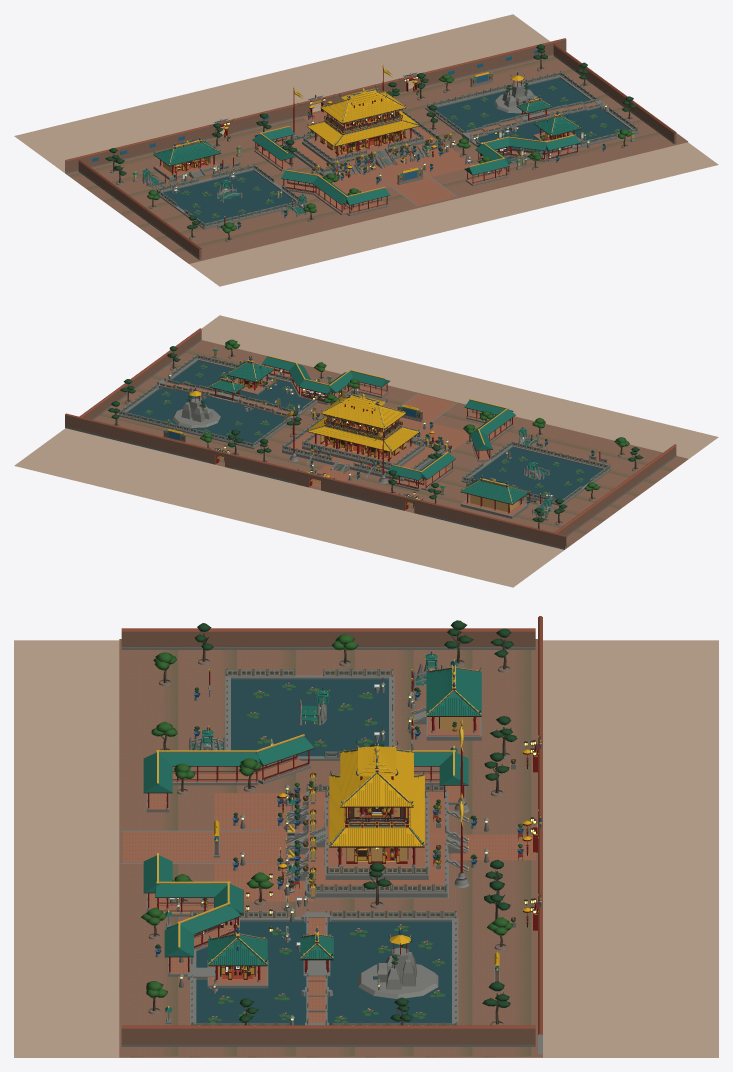
File: T08_lau_kien_trung_vuon_co_ha.glb
The picture shows the model from 3 angles, top to bottom: view 1: azimuth 30°, elevation 25°; view 2: azimuth 150°, elevation 25°; view 3: azimuth 270°, elevation 25°; orthographic projection. The views are drawn at different scales.
Visible parts, largest first — view 1: T08_MainArchitecture_v02, T08_V2_Satellite_Seamless_Base, V07_LauMinhVien_Tang3_CoDien; view 2: T08_MainArchitecture_v02, T08_V2_Satellite_Seamless_Base, V07_LauMinhVien_Tang3_CoDien; view 3: T08_MainArchitecture_v02, T08_V2_Satellite_Seamless_Base, V07_LauMinhVien_Tang3_CoDien, V07_VuonCoHaTay_CauDa_HoSenTay.
Boxes of the visible parts, x1=… form: T08_MainArchitecture_v02: x1=65, y1=38, x2=687, y2=263; T08_V2_Satellite_Seamless_Base: x1=14, y1=14, x2=718, y2=286; V07_LauMinhVien_Tang3_CoDien: x1=339, y1=85, x2=387, y2=108; T08_MainArchitecture_v02: x1=65, y1=328, x2=687, y2=549; T08_V2_Satellite_Seamless_Base: x1=14, y1=315, x2=718, y2=587; V07_LauMinhVien_Tang3_CoDien: x1=339, y1=391, x2=387, y2=413; T08_MainArchitecture_v02: x1=119, y1=616, x2=542, y2=1057; T08_V2_Satellite_Seamless_Base: x1=14, y1=640, x2=718, y2=1057; V07_LauMinhVien_Tang3_CoDien: x1=356, y1=740, x2=398, y2=780; V07_VuonCoHaTay_CauDa_HoSenTay: x1=298, y1=687, x2=329, y2=725.
Bounding box in the file's own units: 140 × 16.15 × 99.8.
28 materials, 3 textured.
